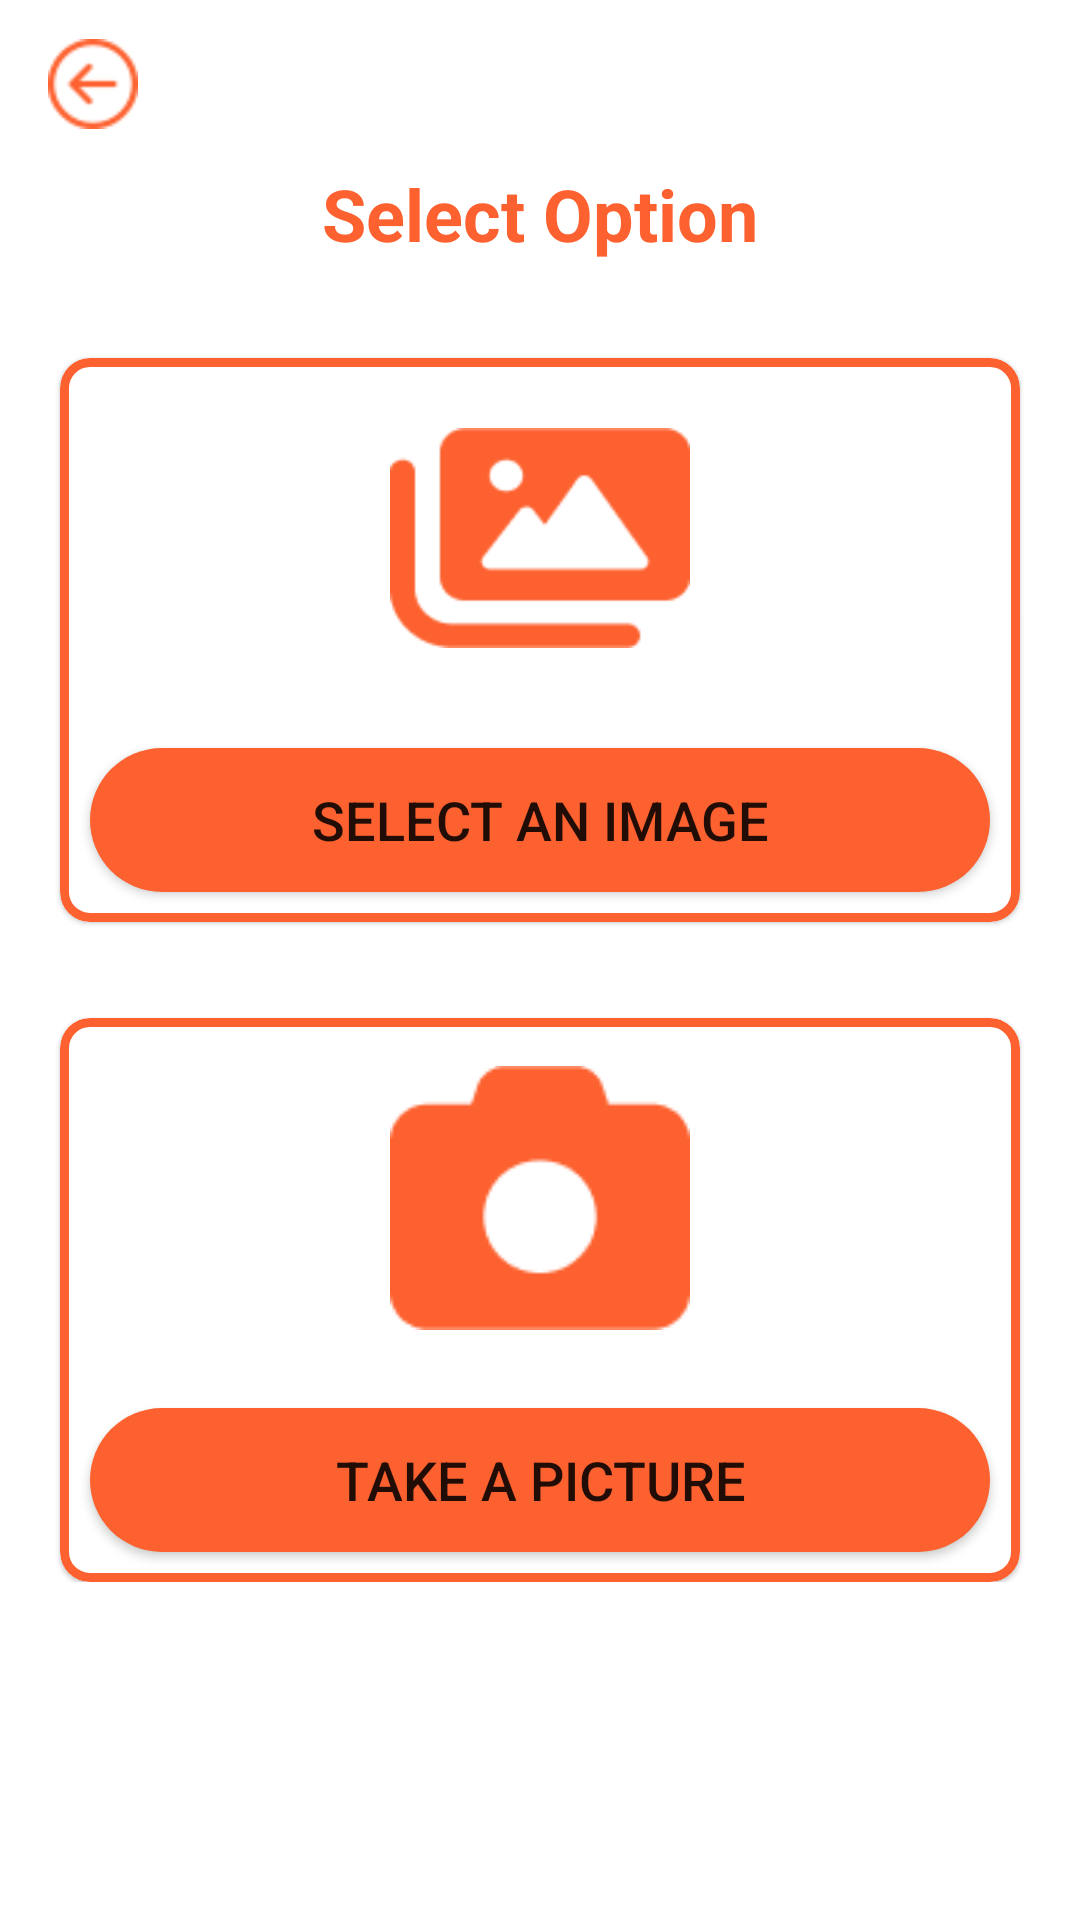

Icon click points for this 1080*1920 phone screenshot, format (x=x, y=y):
back: (x=93, y=84)
camera: (x=540, y=1198)
pick: (x=540, y=538)
